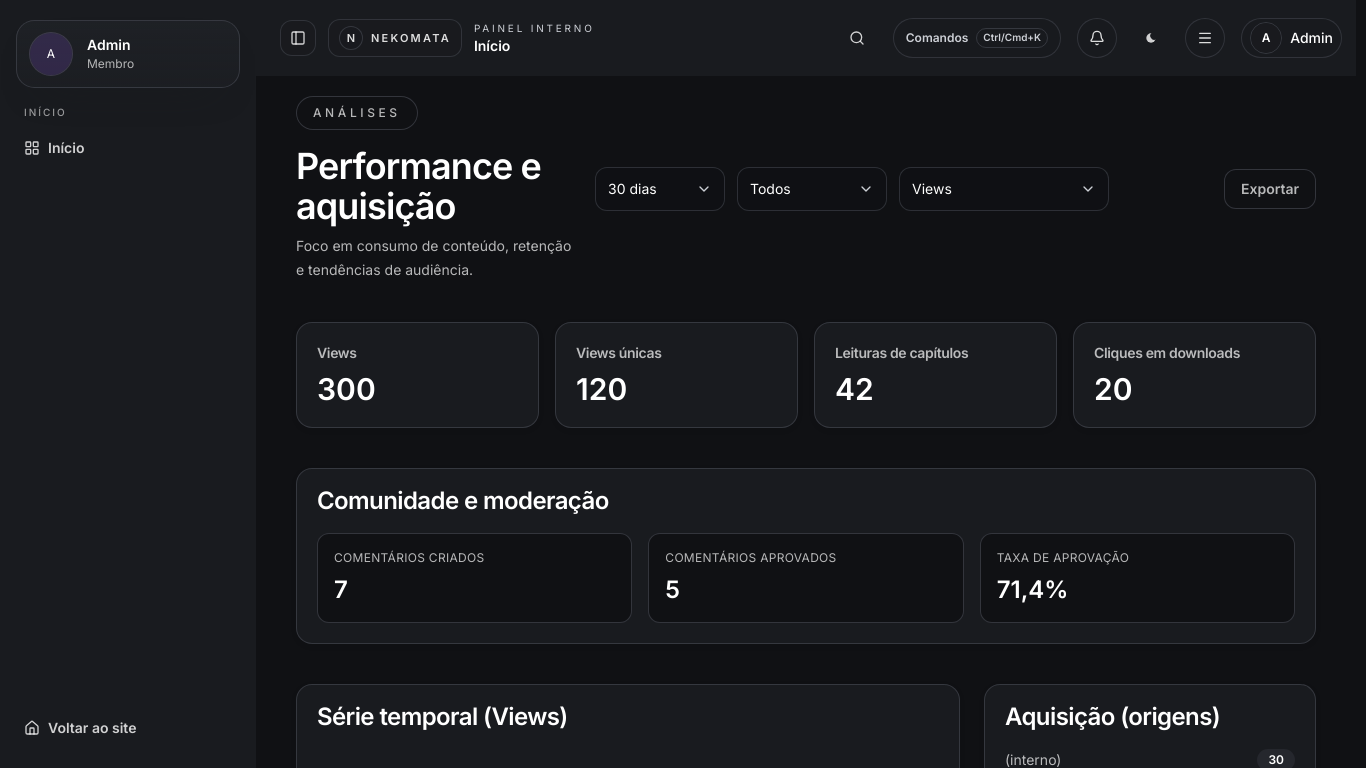
Scenario: DashboardAnalytics › reaproveita cache quente ao voltar para um filtro visitado recentemente
Expected: the text "300" is shown, [317,371,376,407]
Click the dropdown labelled "30 dias" at x=660, y=189, box [595,167,725,211]
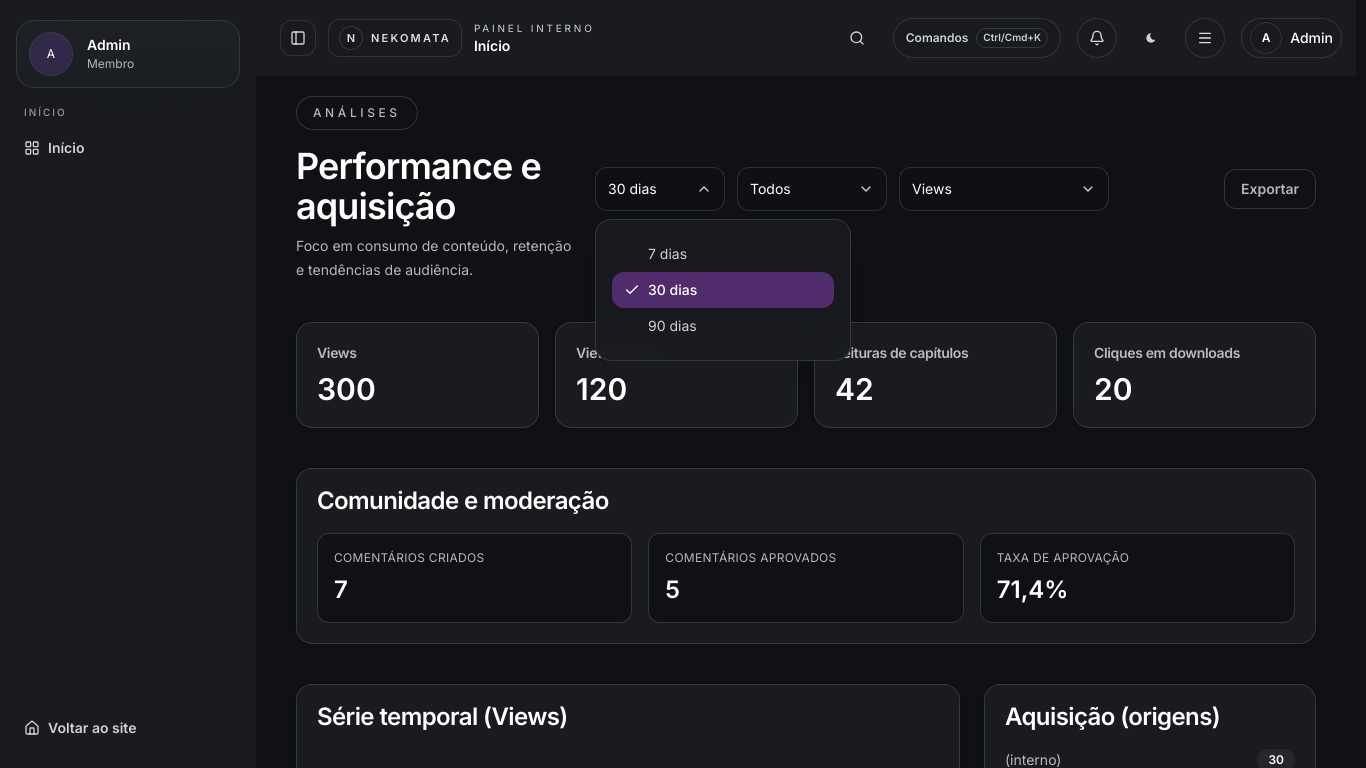
Click the option "7 dias" at x=723, y=254, box [612,236,834,272]
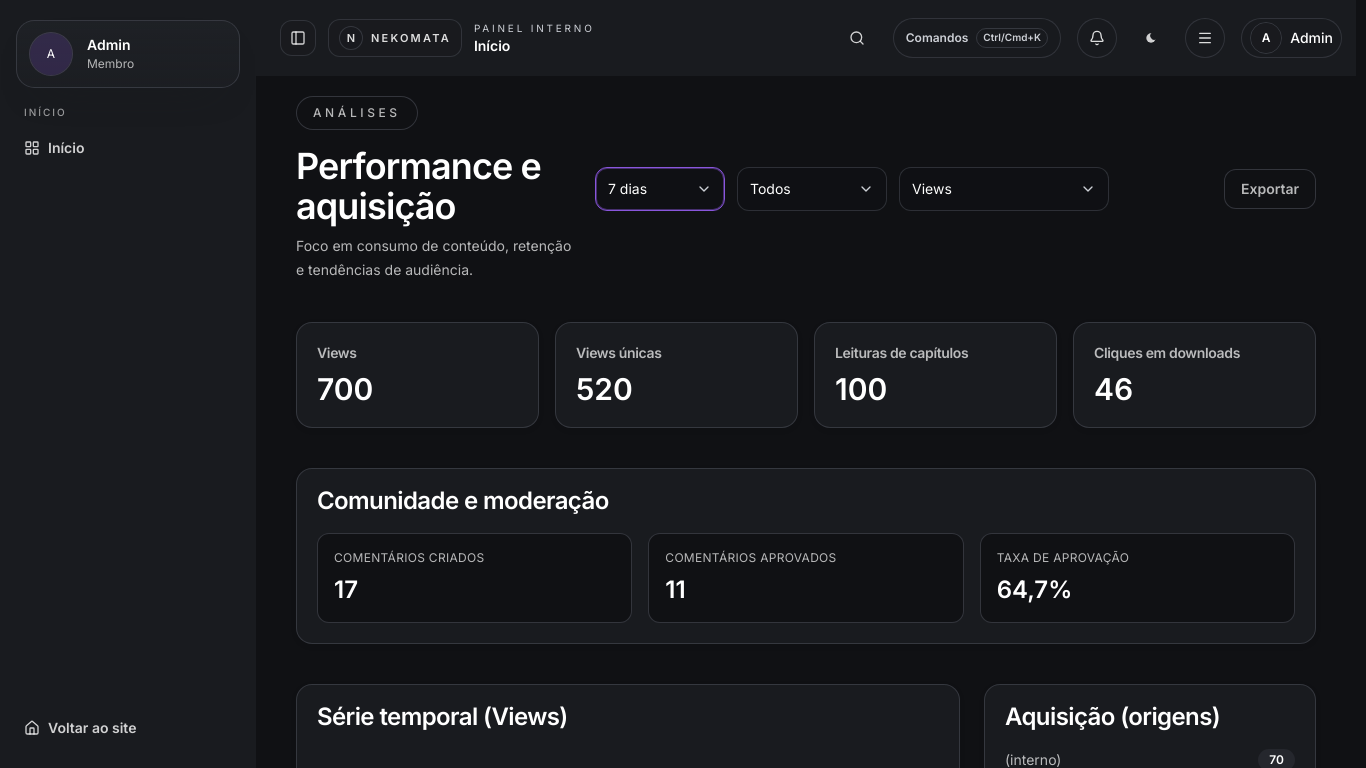
Expected: the text "700" is shown, [317,371,373,407]
Click the dropdown labelled "7 dias" at x=660, y=189, box [595,167,725,211]
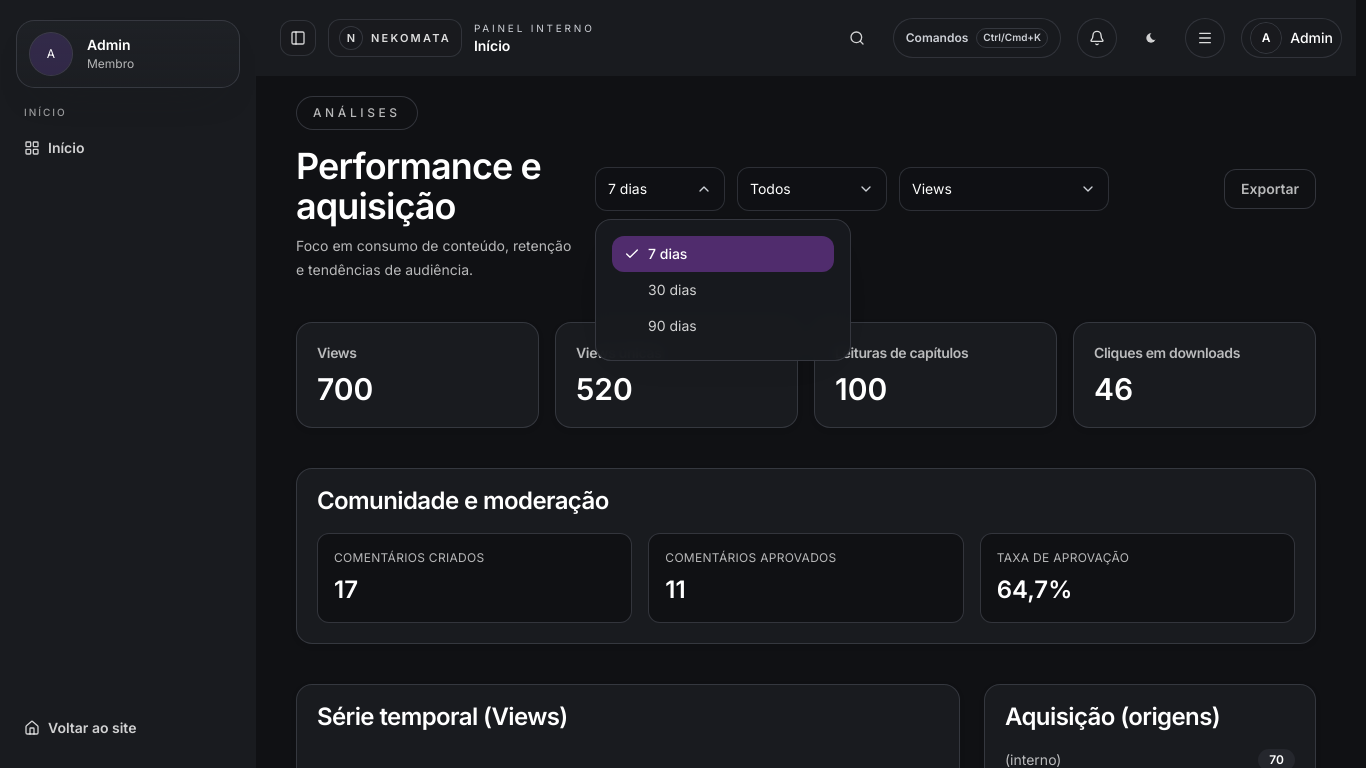
Click the option "30 dias" at x=723, y=290, box [612,272,834,308]
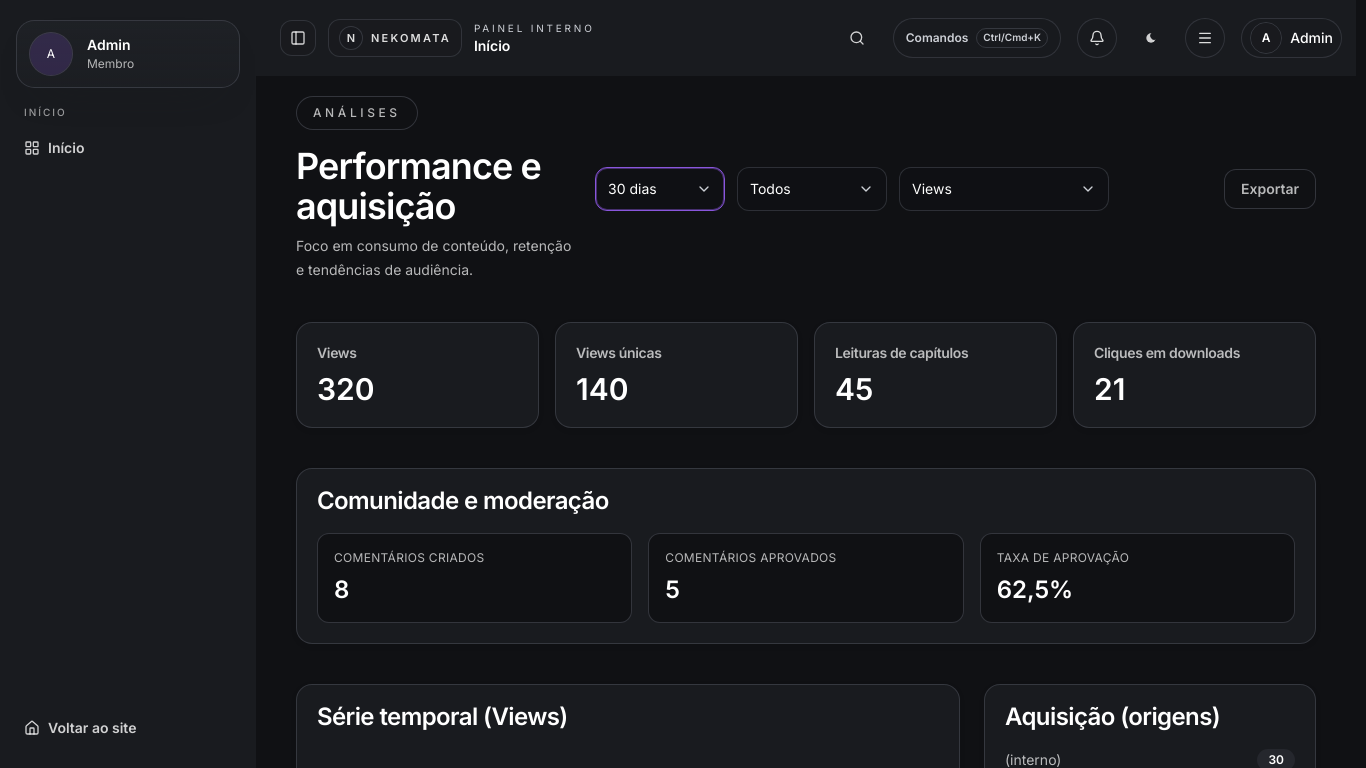
Expected: the text "700" is gone
Expected: the text "320" is shown, [317,371,375,407]
